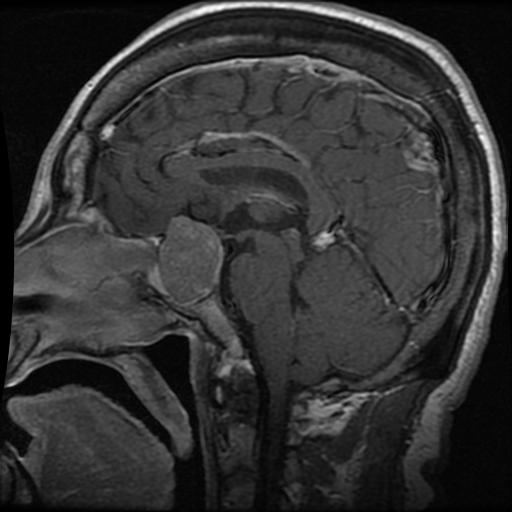Pituirity_tumour: (162, 219, 221, 302)
